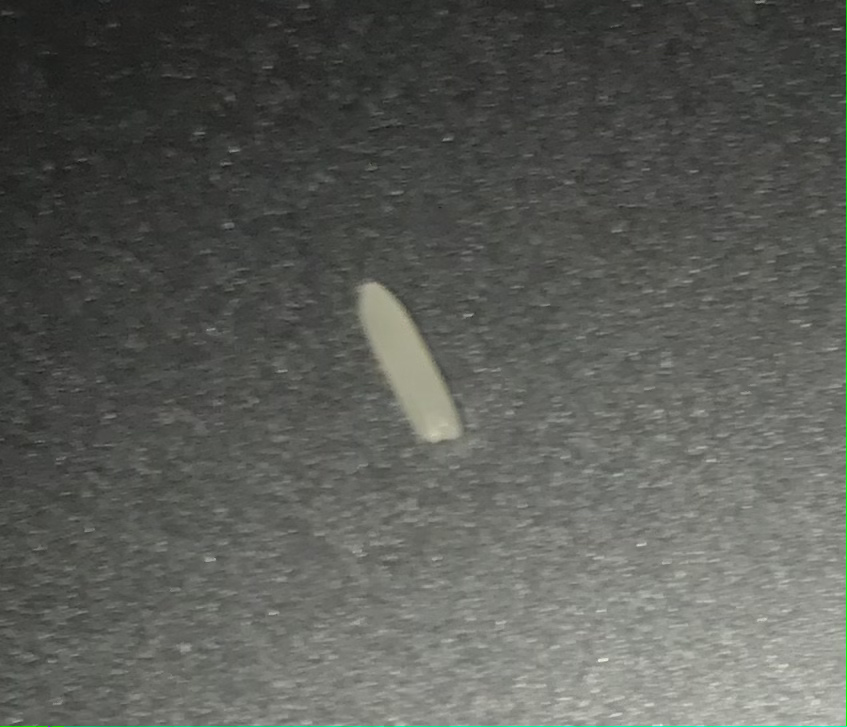Gao Long Lai: (335, 263, 472, 461)
